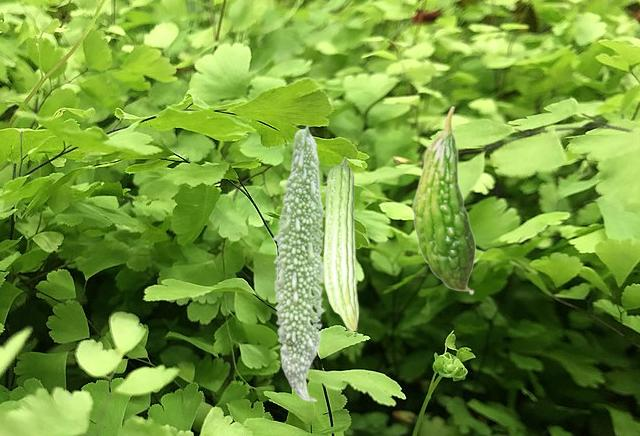ampalaya: (270, 122, 328, 403), (411, 105, 476, 295), (322, 156, 360, 332)
